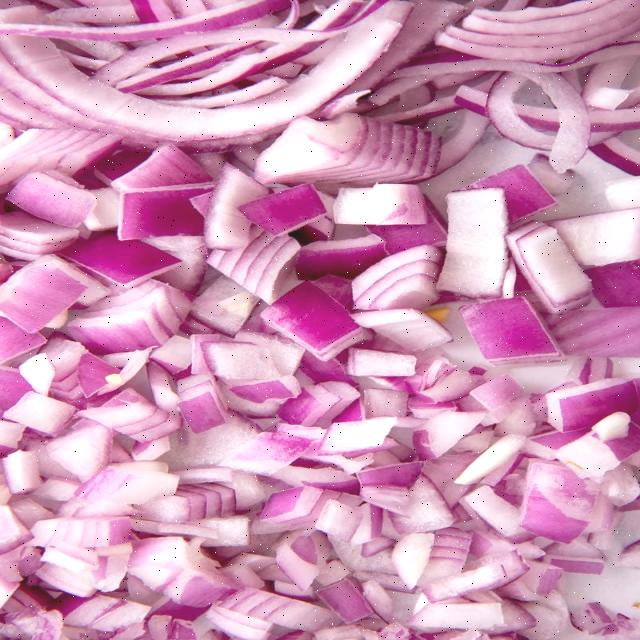Onion: (38, 56, 534, 309), (158, 167, 585, 374), (0, 325, 151, 640), (196, 427, 556, 543)
